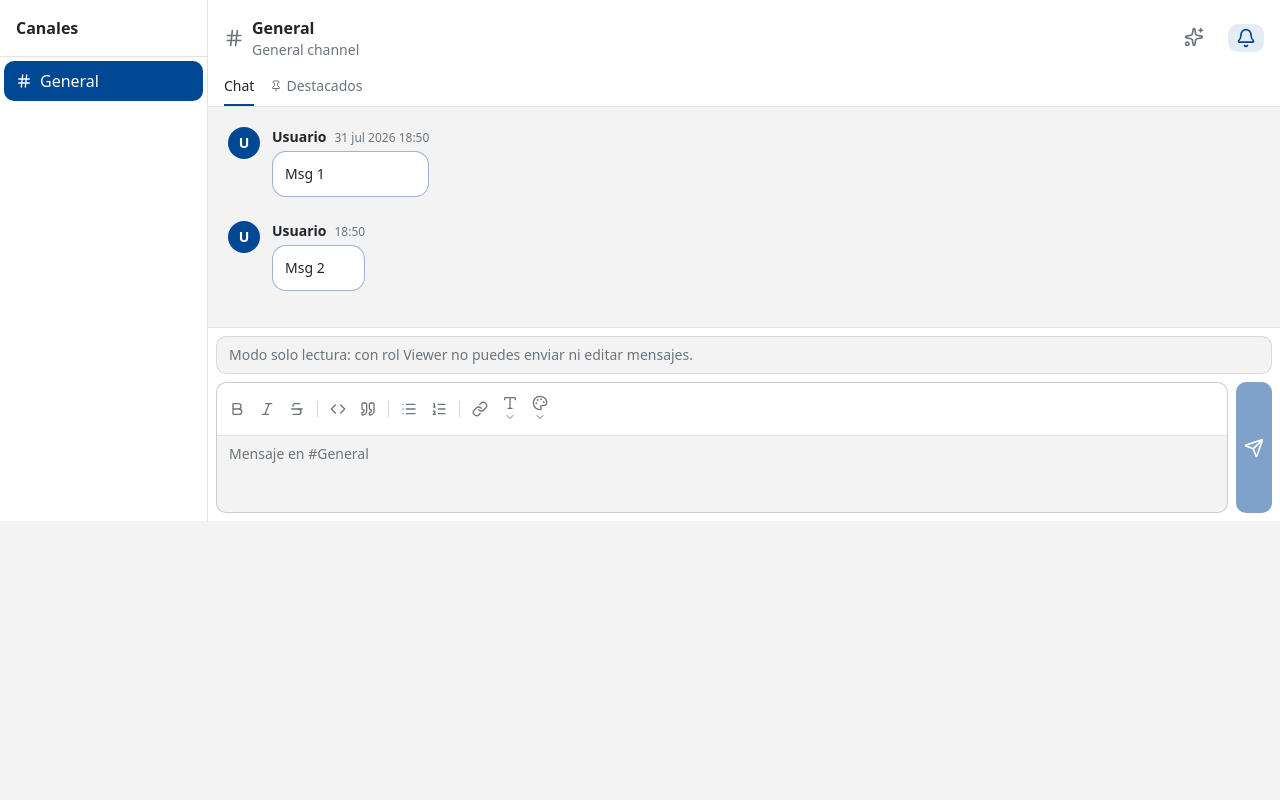
it: ChatView Summary › displays error message when generation fails
Expected: the text "General" is shown, [40, 69, 99, 93]
Click the button titled "Resumir chat con IA".
click(1194, 37)  # box [1176, 23, 1212, 51]
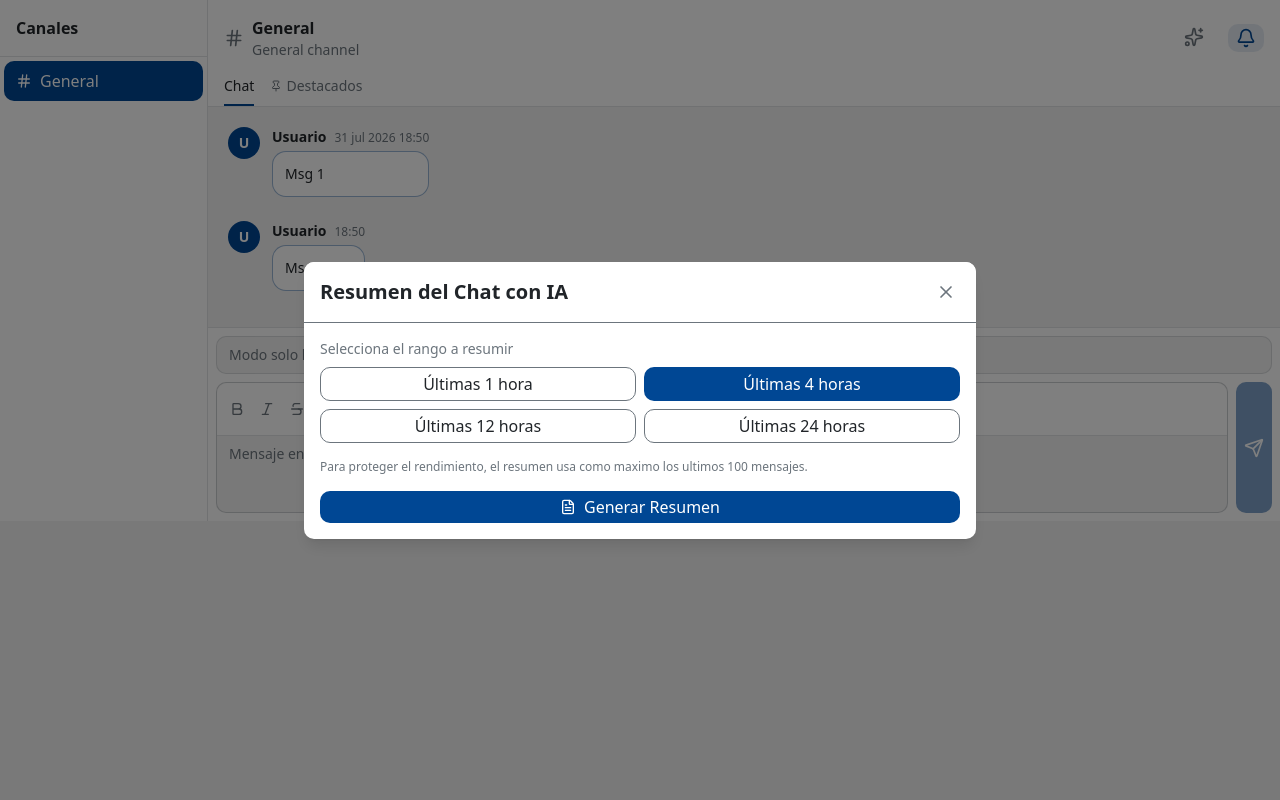
Expected: the heading "Resumen del Chat con IA" is shown, [320, 278, 568, 306]
Click the button "Generar Resumen".
click(640, 506)  # box [320, 490, 960, 522]
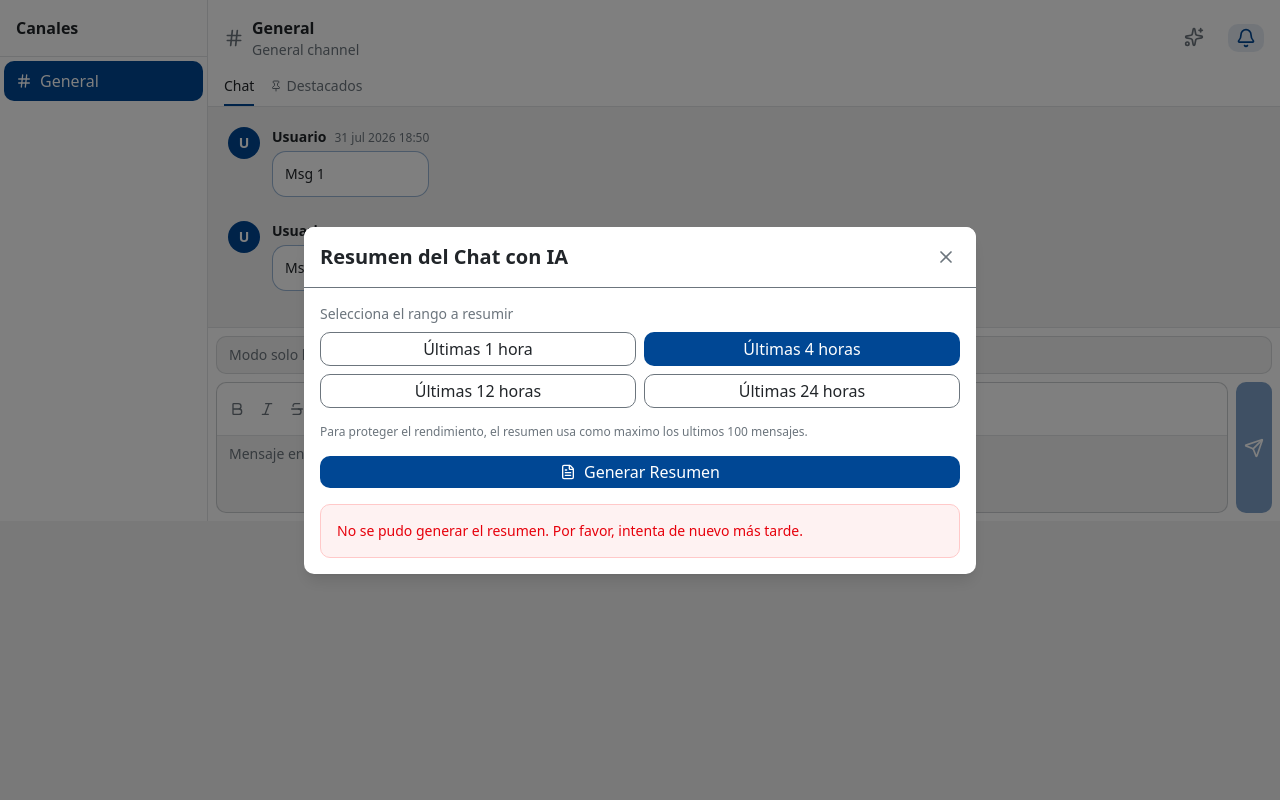
Expected: the text "No se pudo generar el resumen. Por favor, intenta de nuevo más tarde." is shown, [320, 504, 960, 558]
